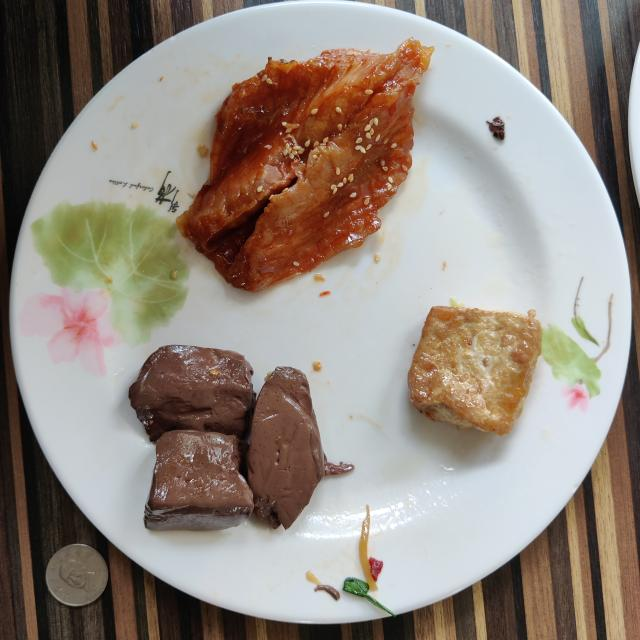Kabayaki sea bream fillet: (176, 39, 434, 291)
coin: (46, 544, 108, 606)
pig blood curd: (129, 345, 354, 530)
